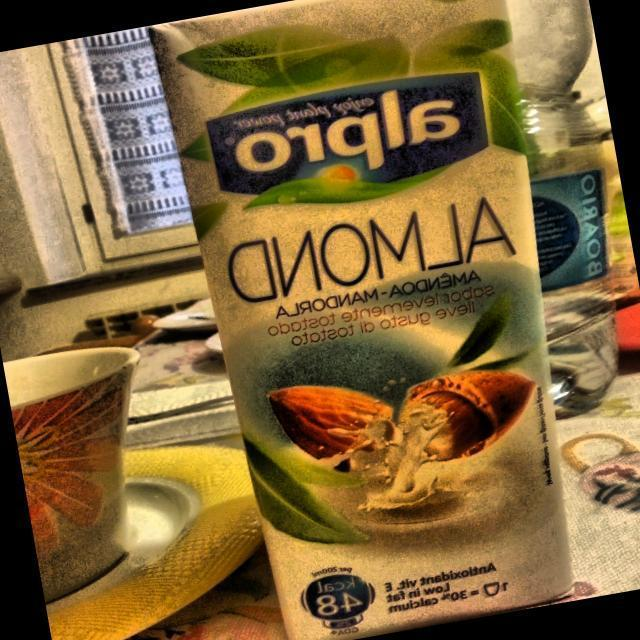cardboard: (147, 0, 612, 640)
